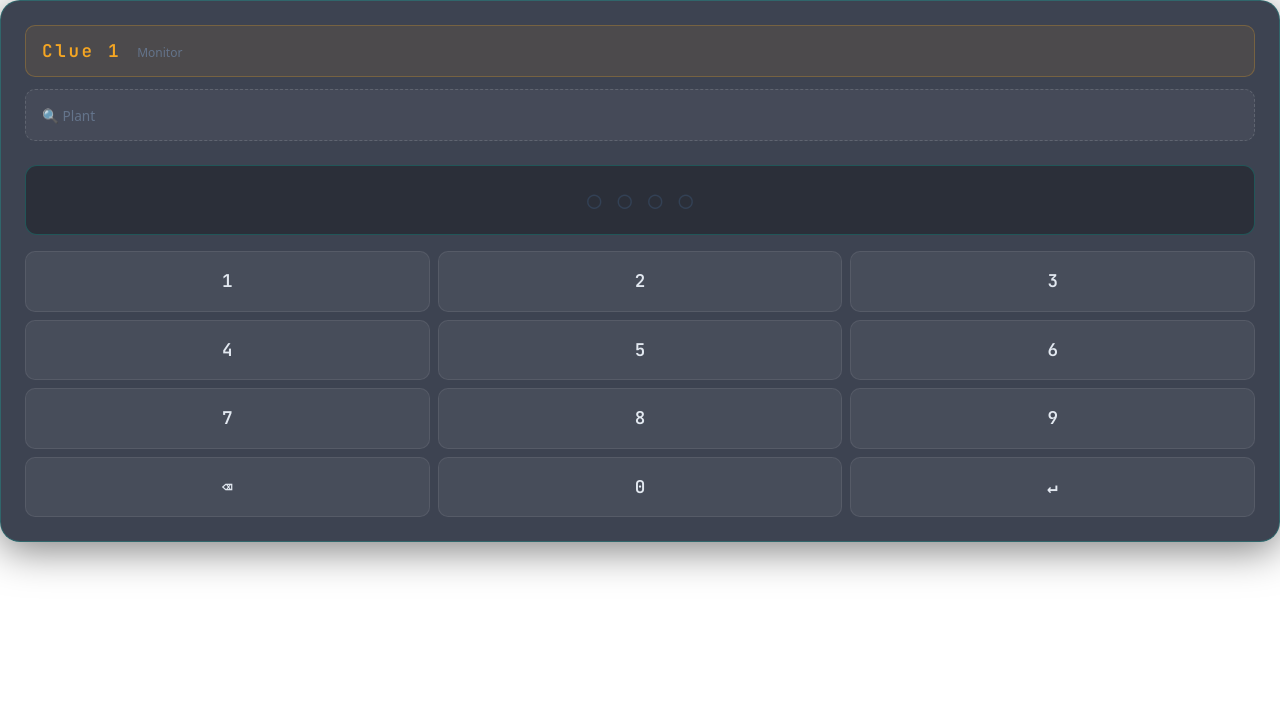
Test: KeypadPuzzle › allows typing PIN and solves when correct
Click the button "1". click: (227, 282)
box: [25,251,430,312]
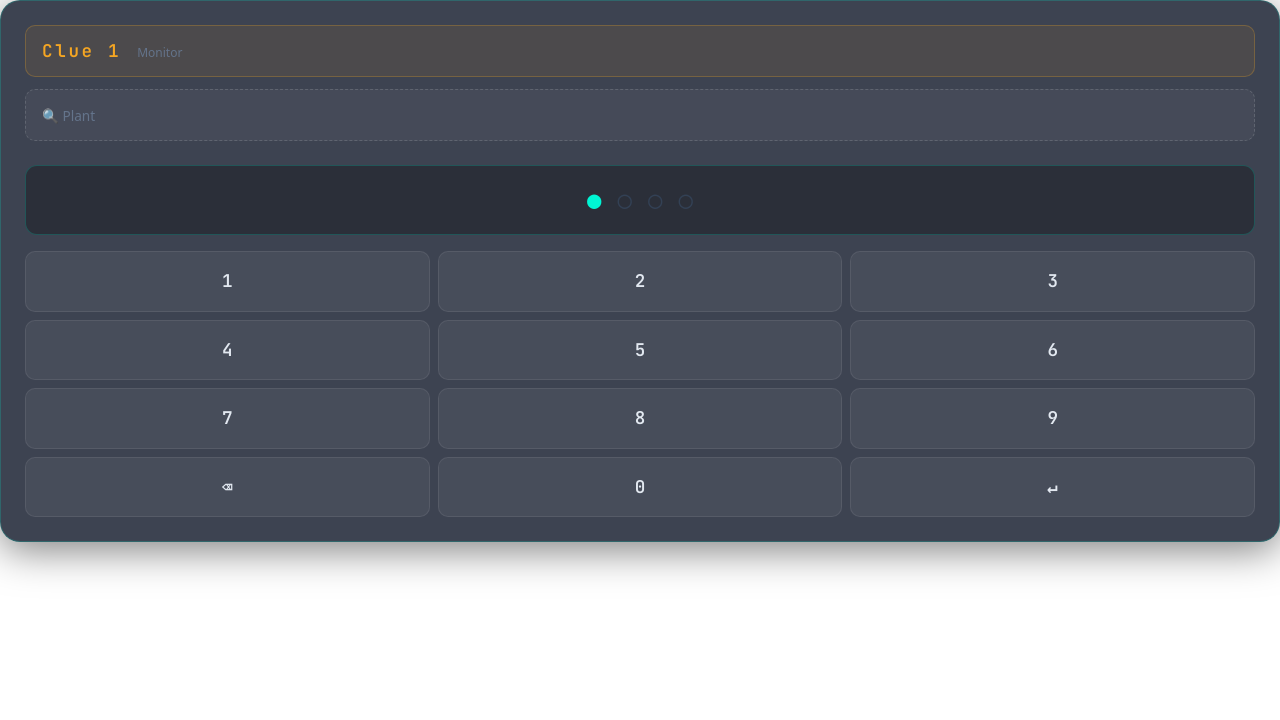
Click the button "2". click: (640, 282)
box: [438,251,842,312]
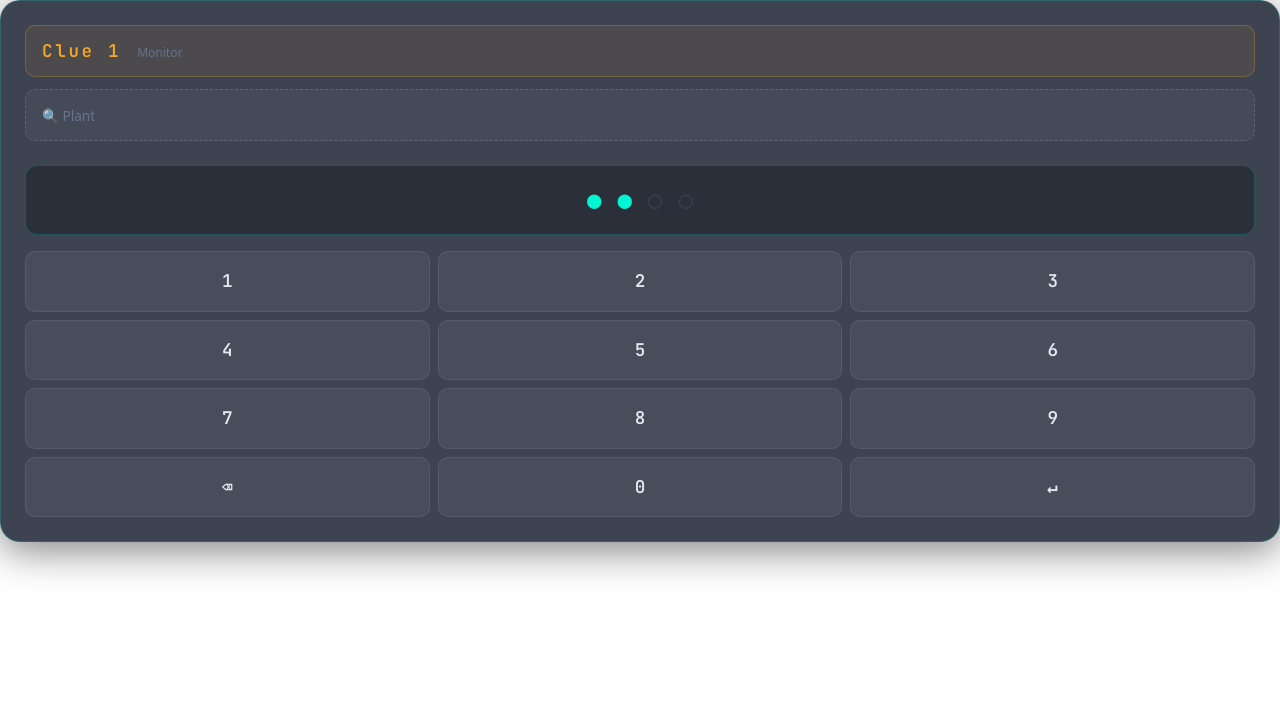
Click the button "3". click: (1053, 282)
box: [850,251,1255,312]
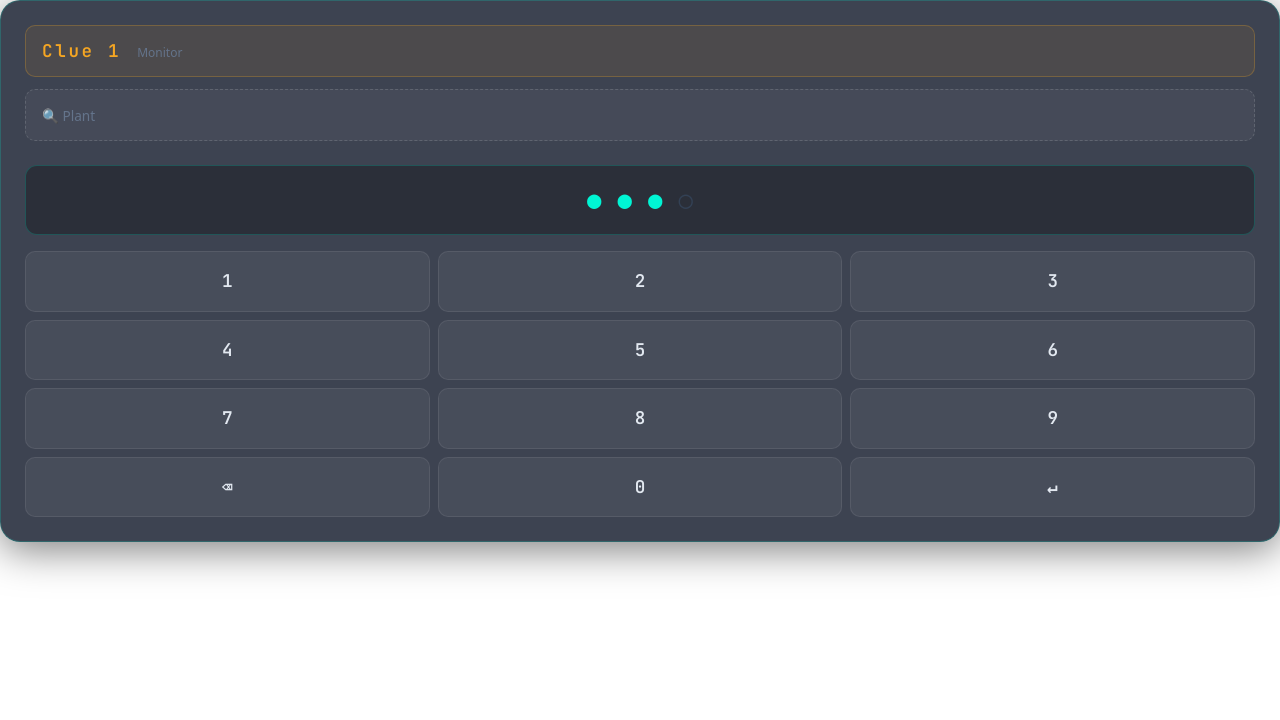
Click the button "4". click: (227, 350)
box: [25,320,430,380]
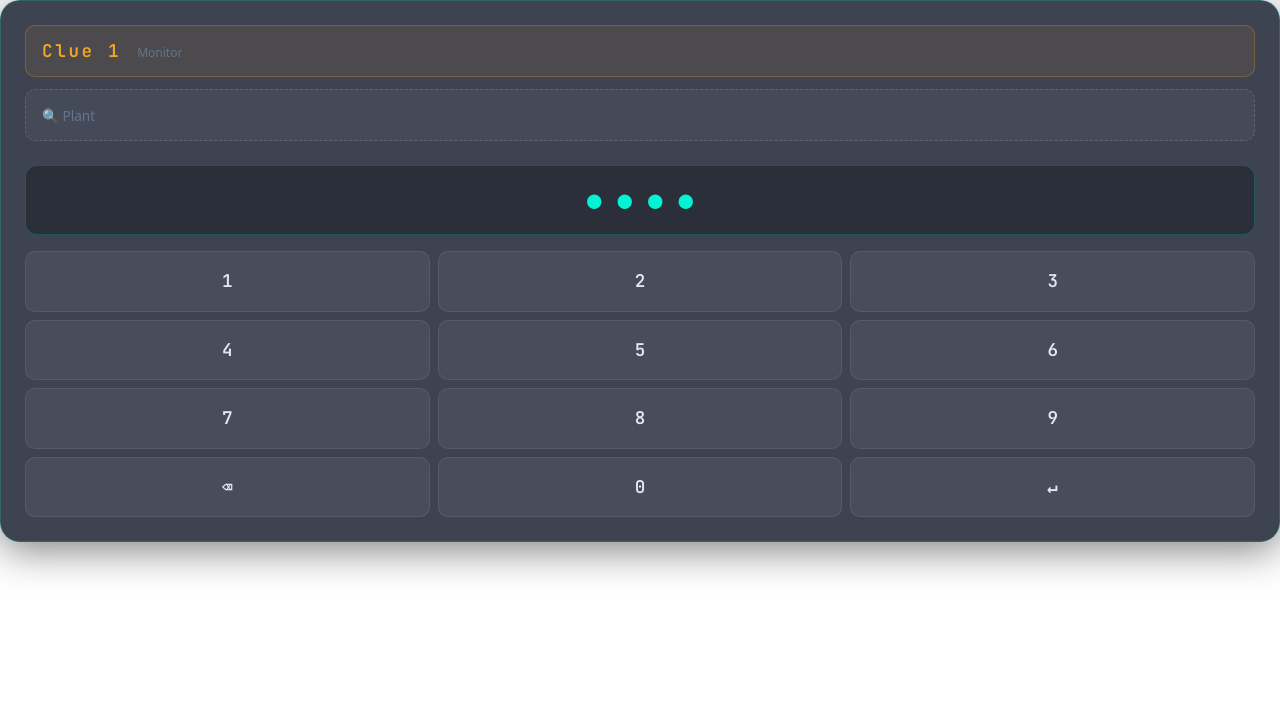
// Press confirm
Click the button "↵". click: (1053, 487)
box: [850,457,1255,517]
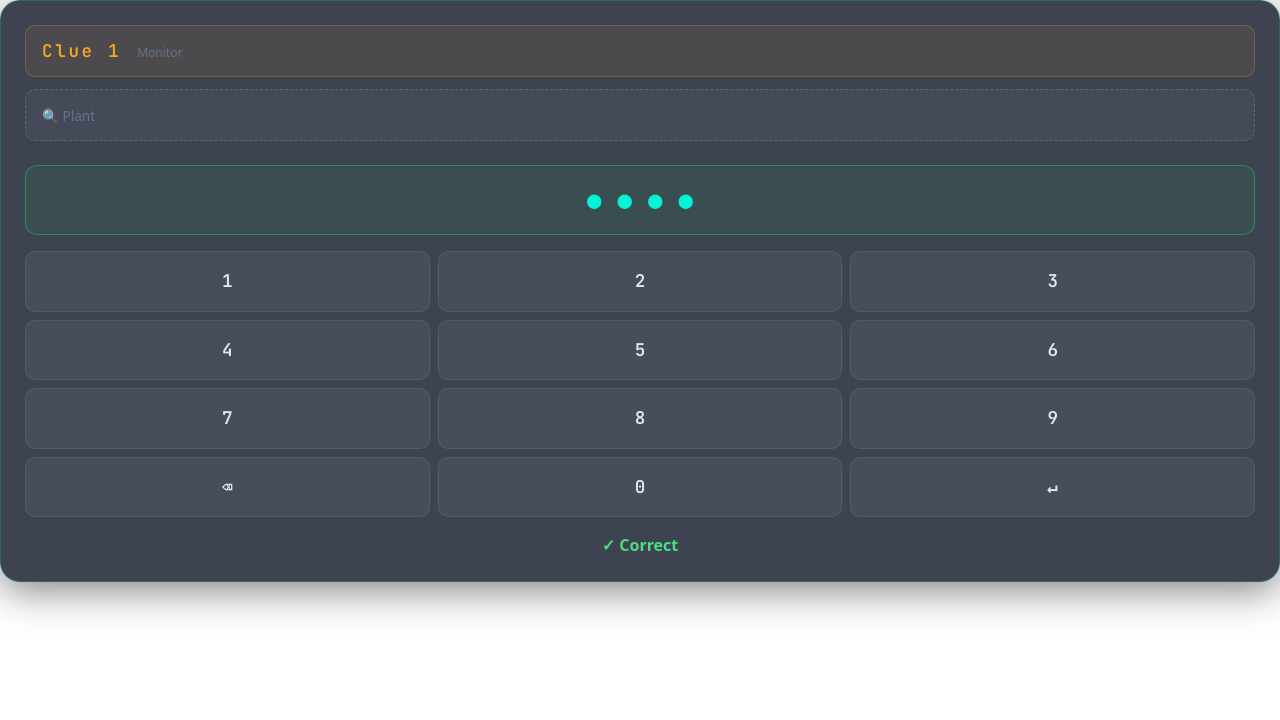
Result: the text "✓ Correct" is shown at [602,534,678,556]
